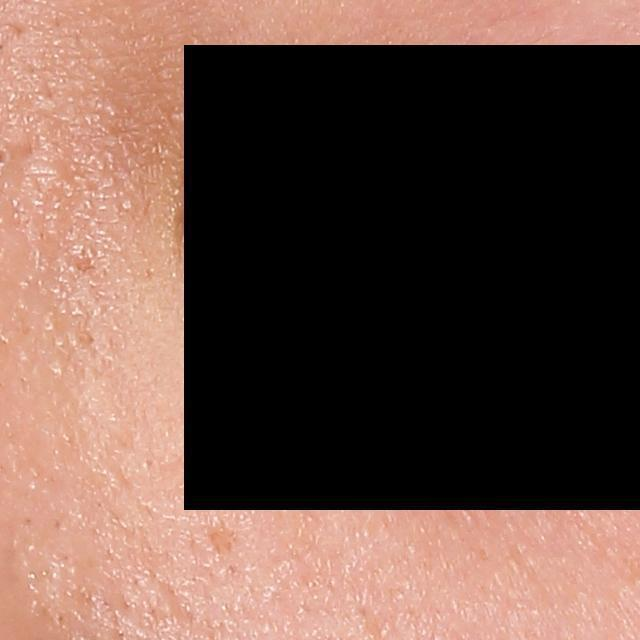melasma: (201, 519, 240, 560)
